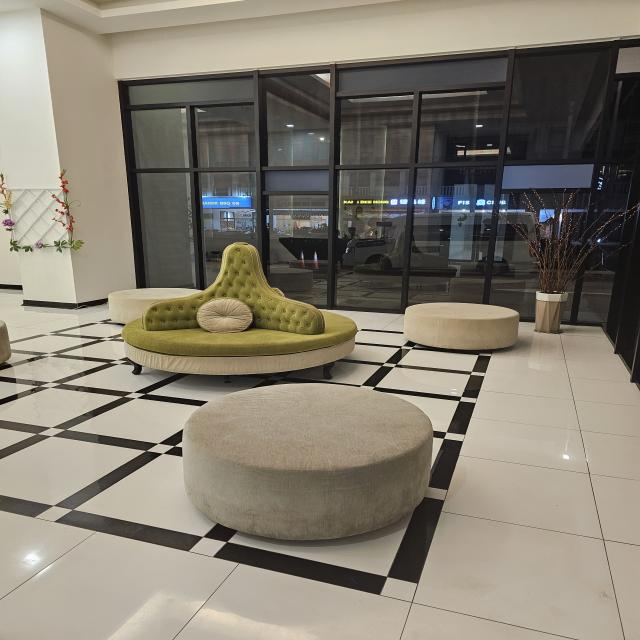obstacle: (180, 382, 436, 544), (119, 241, 360, 384), (490, 185, 632, 335), (401, 300, 522, 353), (105, 286, 204, 327)
